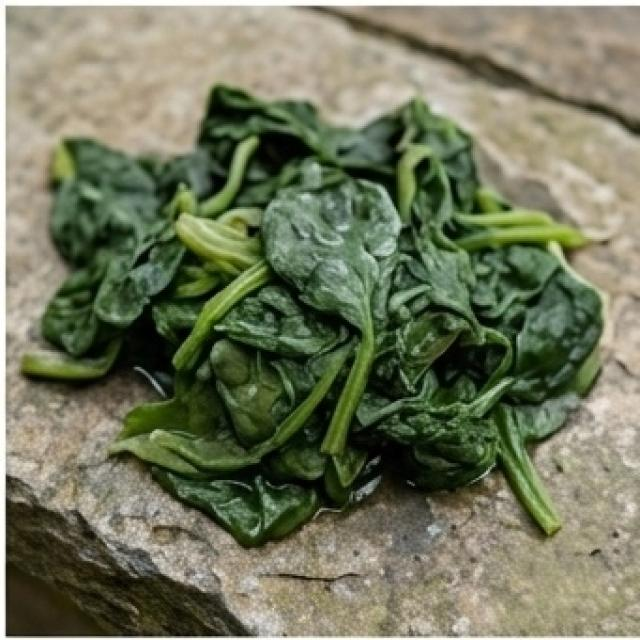rotten spinach: (19, 65, 633, 588)
